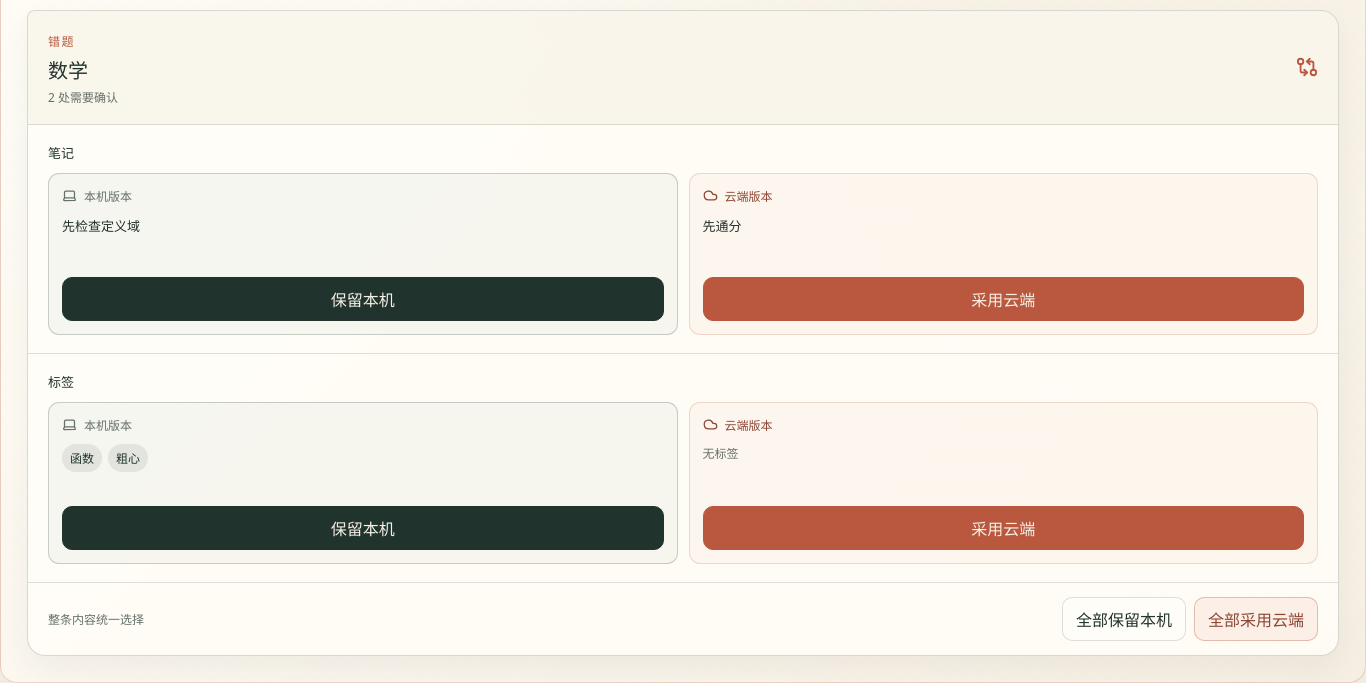
Test: SyncConflictCenter › shows both values and resolves every field for one entity atomically
The width and height of the screenshot is (1366, 683).
(page scrolled)
Expected: the text "本机版本" is shown 2 times, [84,187,132,205]; [84,416,132,434]
Expected: the text "云端版本" is shown 2 times, [724,187,772,205]; [724,416,772,434]
Click the button with aria-label "数学全部采用本机版本": click(1124, 619) [1062,597,1186,641]
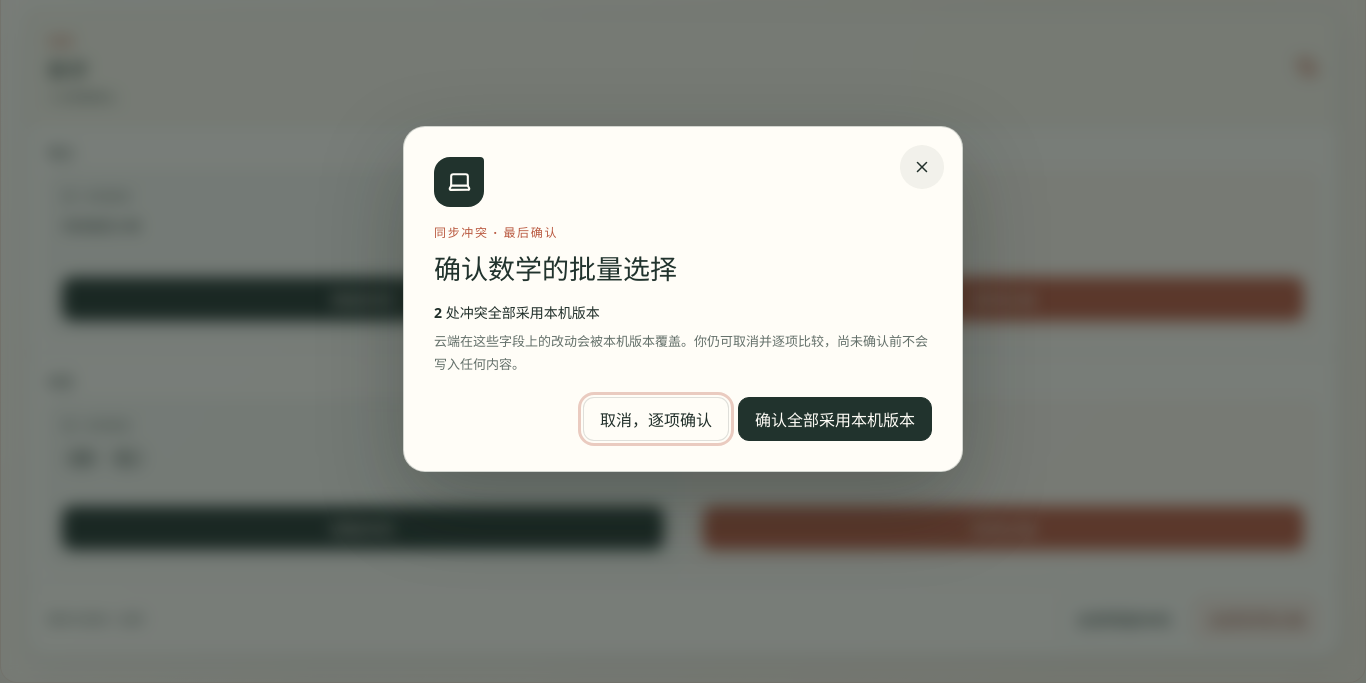
Expected: the dialog "确认数学的批量选择" is shown, [403,126,963,472]
Click the button "确认全部采用本机版本": click(835, 419) [738,397,932,441]
(page scrolled)
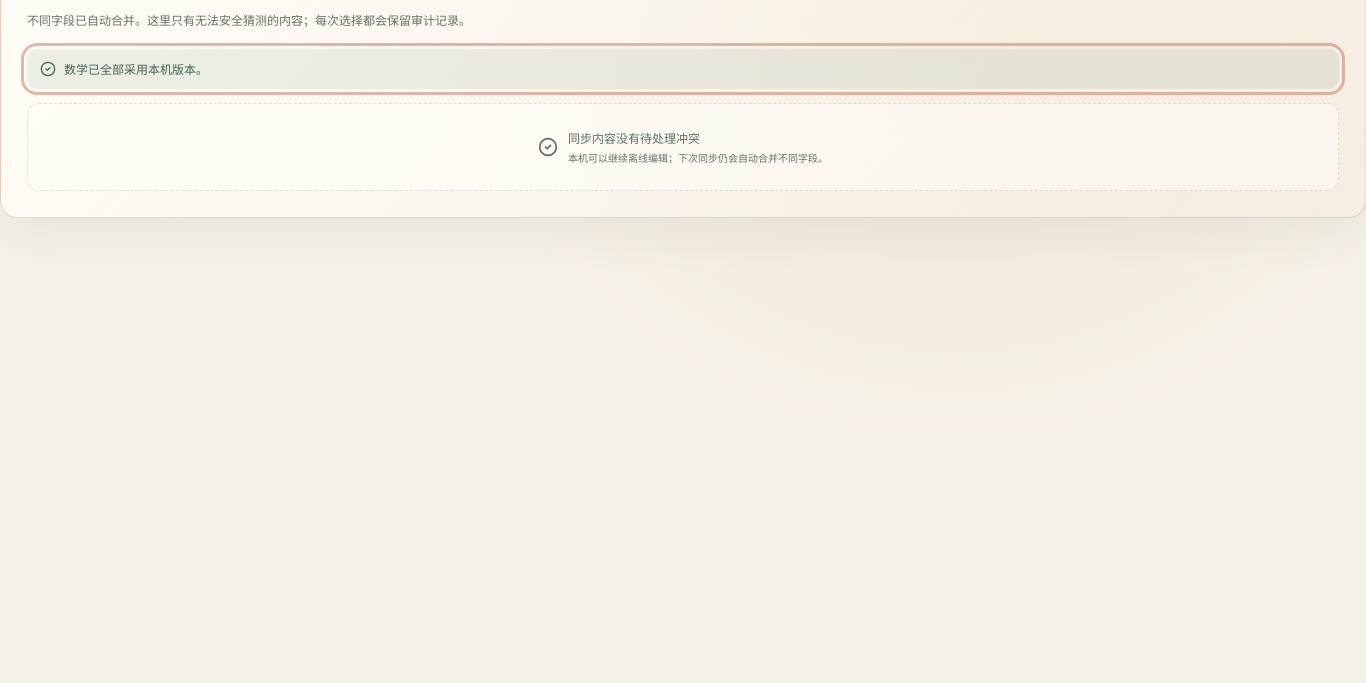
Expected: the element "数学的同步冲突" is gone
Expected: the text "同步内容没有待处理冲突" is shown, [568,130,700,147]
